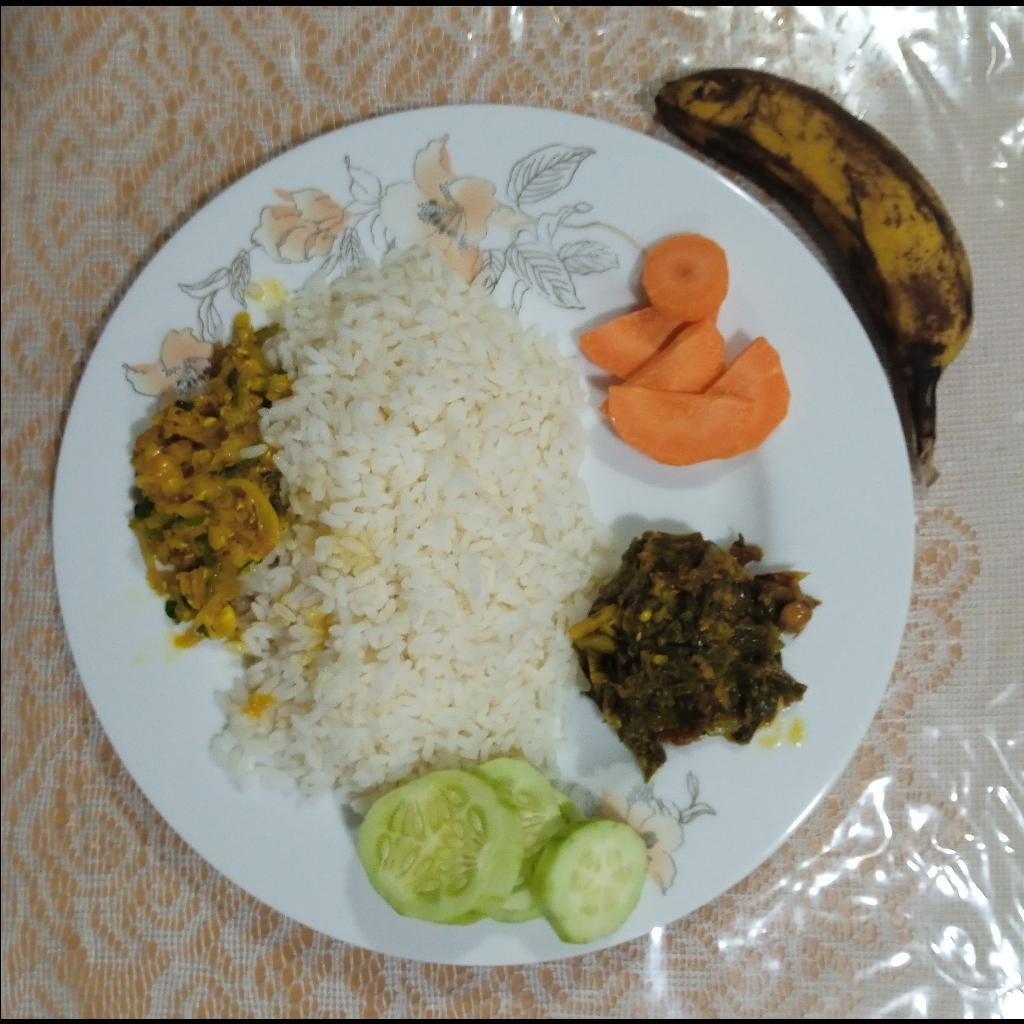banana: (654, 67, 974, 465)
cabbage: (131, 309, 296, 649)
carrot: (579, 235, 791, 467)
cucumber: (360, 760, 649, 944)
rice: (210, 247, 615, 820)
shak: (565, 529, 827, 782)
